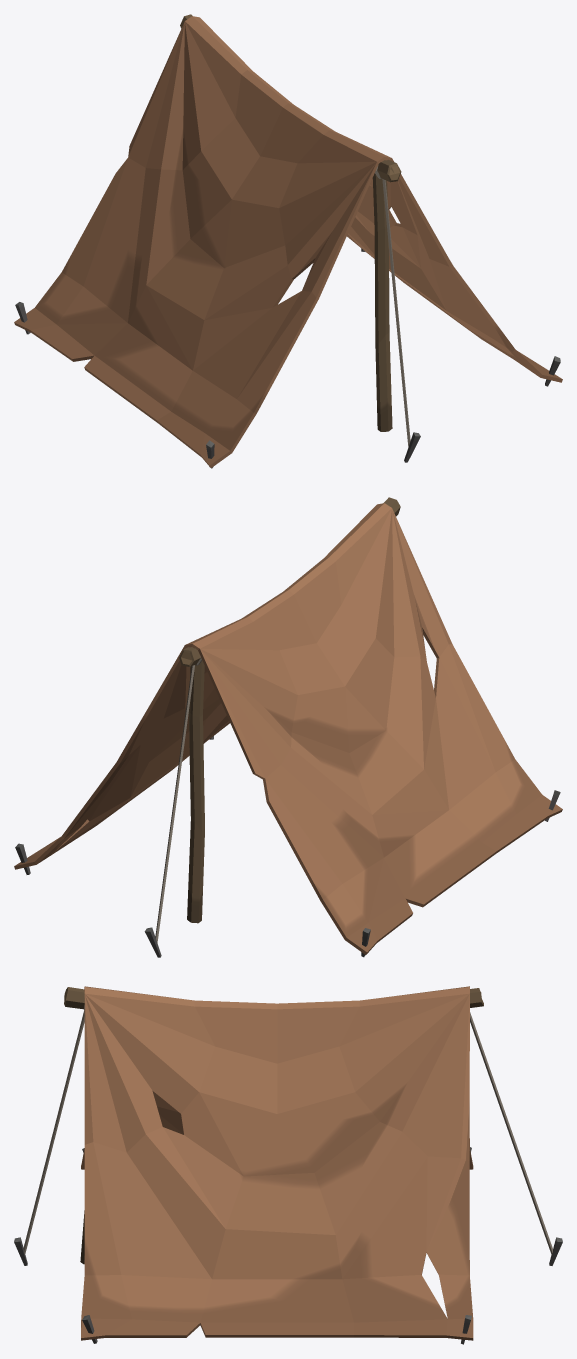
The model's file is Prop_Camp_Tent_01.glb.
3 renders of one model, top to bottom at view 1: azimuth 30°, elevation 25°; view 2: azimuth 150°, elevation 25°; view 3: azimuth 270°, elevation 25°, orthographic.
Visible parts, largest first — view 1: SM_Prop_Camp_Tent_01; view 2: SM_Prop_Camp_Tent_01; view 3: SM_Prop_Camp_Tent_01.
Part boxes in pixels (x1=…): SM_Prop_Camp_Tent_01: x1=14, y1=14, x2=562, y2=468; SM_Prop_Camp_Tent_01: x1=14, y1=497, x2=562, y2=957; SM_Prop_Camp_Tent_01: x1=14, y1=986, x2=562, y2=1344.
Size of the model in its own units: 2 by 1.52 by 2.68.
Materials: 1 (1 with a texture image).
